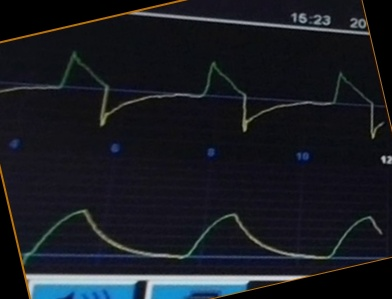Normal Flow: (1, 48, 385, 141)
Normal Volume: (24, 200, 383, 262)
